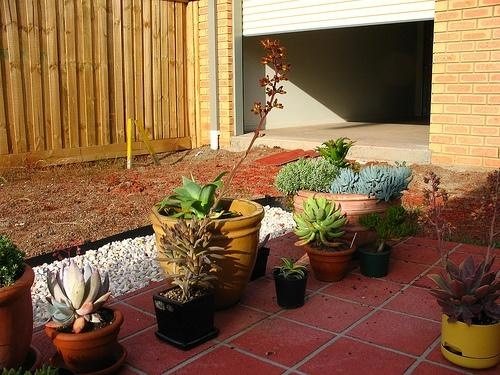pottedplant: (151, 40, 293, 308), (274, 138, 415, 246), (424, 170, 500, 370), (45, 260, 128, 375), (155, 220, 222, 352), (2, 236, 43, 375), (294, 193, 357, 283), (359, 206, 421, 278), (275, 258, 309, 310)
